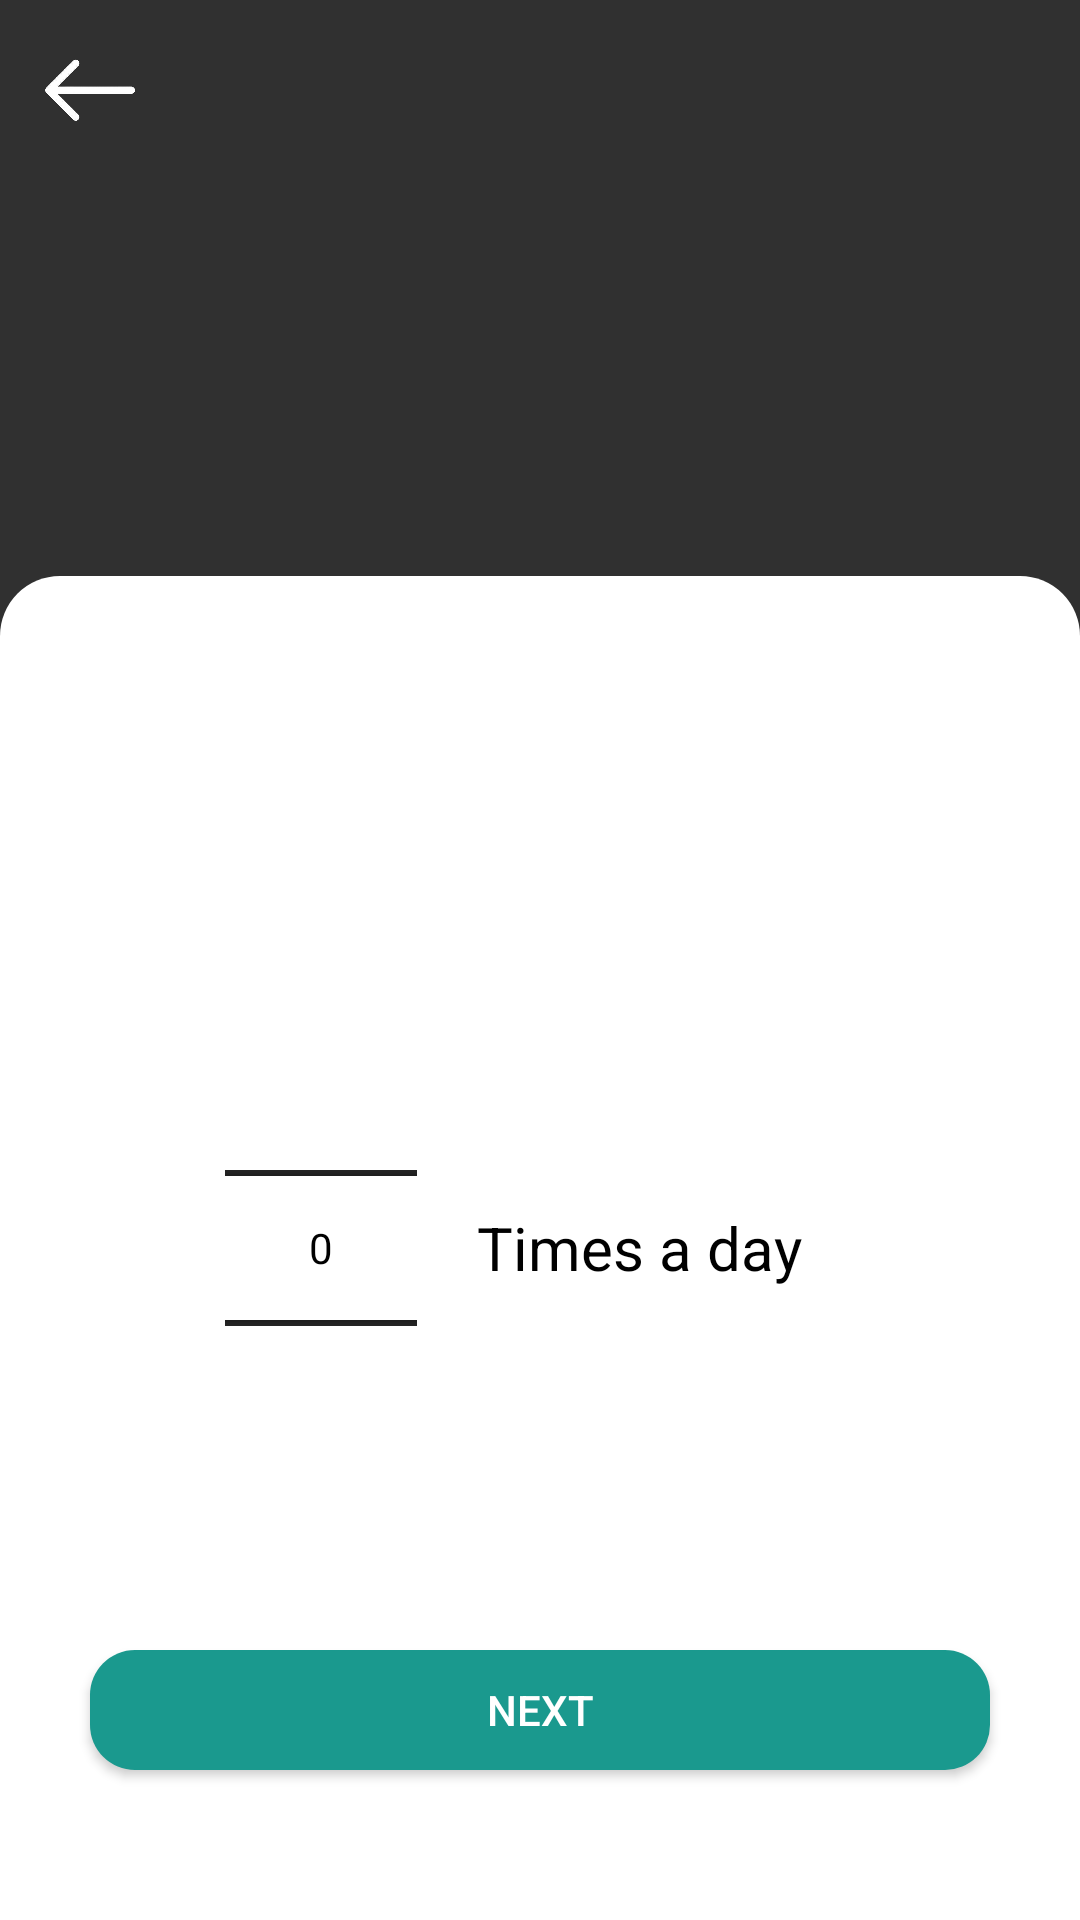

Icons on this 1080x1920 Android screen, each with the point to tap as point (x, y):
back: point (90, 90)
